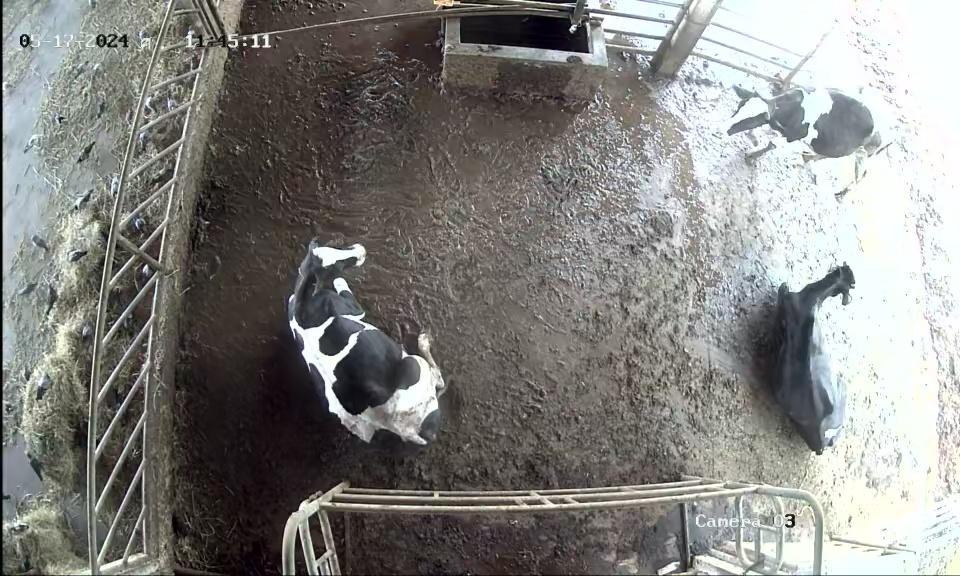lay: (258, 222, 467, 457), (742, 246, 879, 459)
stand: (722, 68, 905, 212)
